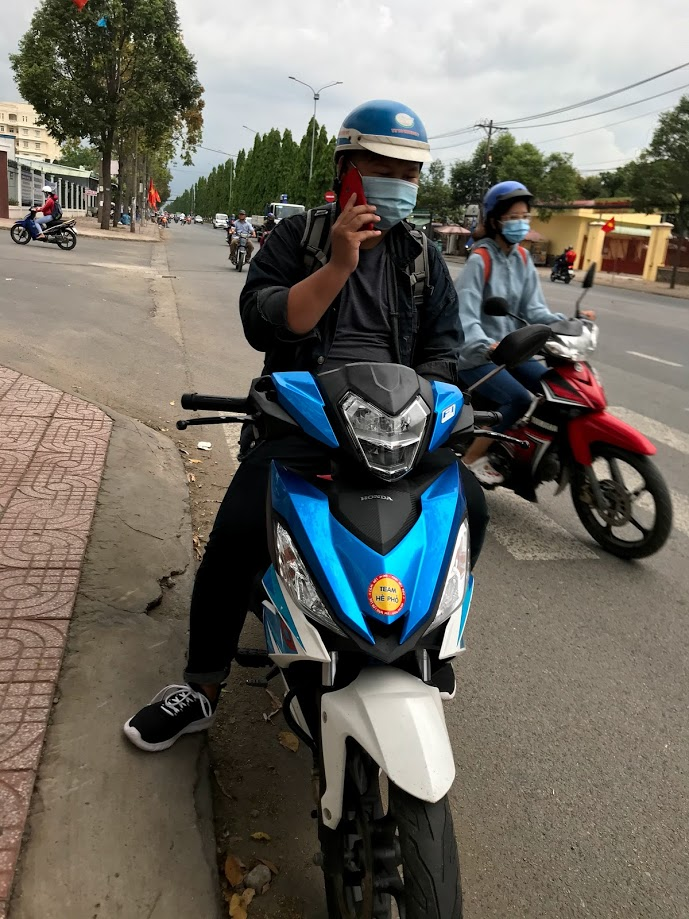dieu khien xe may: (254, 96, 480, 671)
su dung dien thoai: (325, 97, 431, 278)
